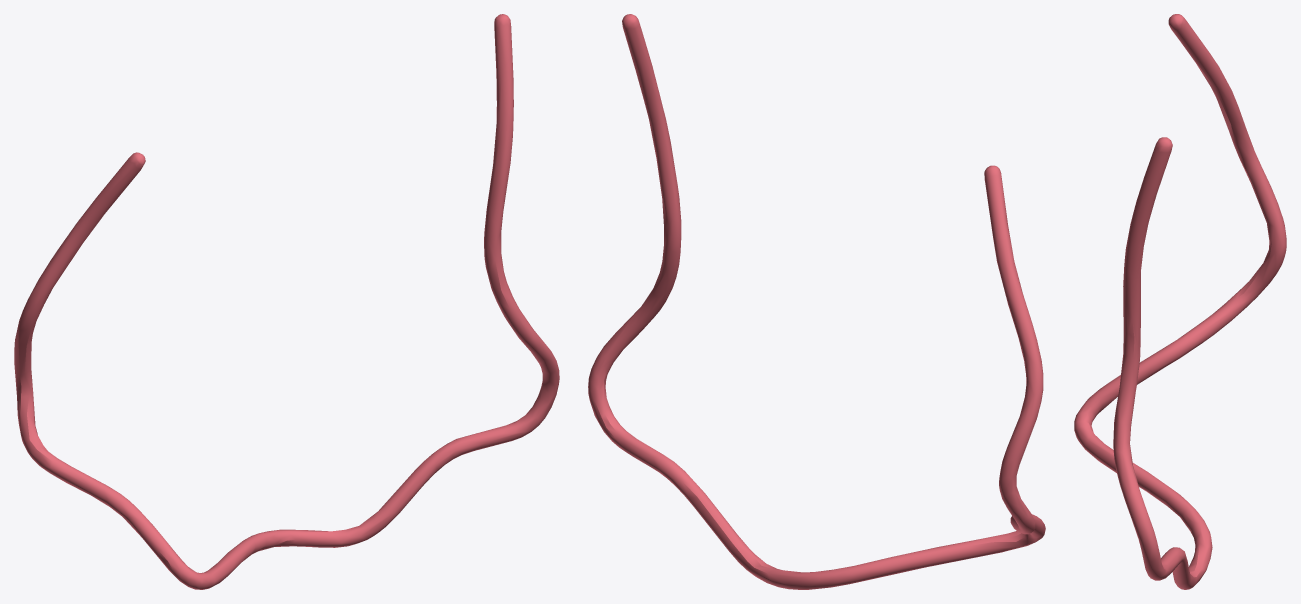
The model's file is fma22912_fj2281.glb.
3 renders of one model, left to right at view 1: azimuth 30°, elevation 25°; view 2: azimuth 150°, elevation 25°; view 3: azimuth 270°, elevation 25°, orthographic. The views are drawn at different scales.
Visible parts, largest first — view 1: FMA22912_FJ2281; view 2: FMA22912_FJ2281; view 3: FMA22912_FJ2281.
Part boxes in pixels (x1=…): FMA22912_FJ2281: x1=14, y1=14, x2=559, y2=589; FMA22912_FJ2281: x1=588, y1=14, x2=1045, y2=589; FMA22912_FJ2281: x1=1074, y1=14, x2=1286, y2=589.
Bounding box in the file's own units: 0.049 × 0.0484 × 0.0179.
